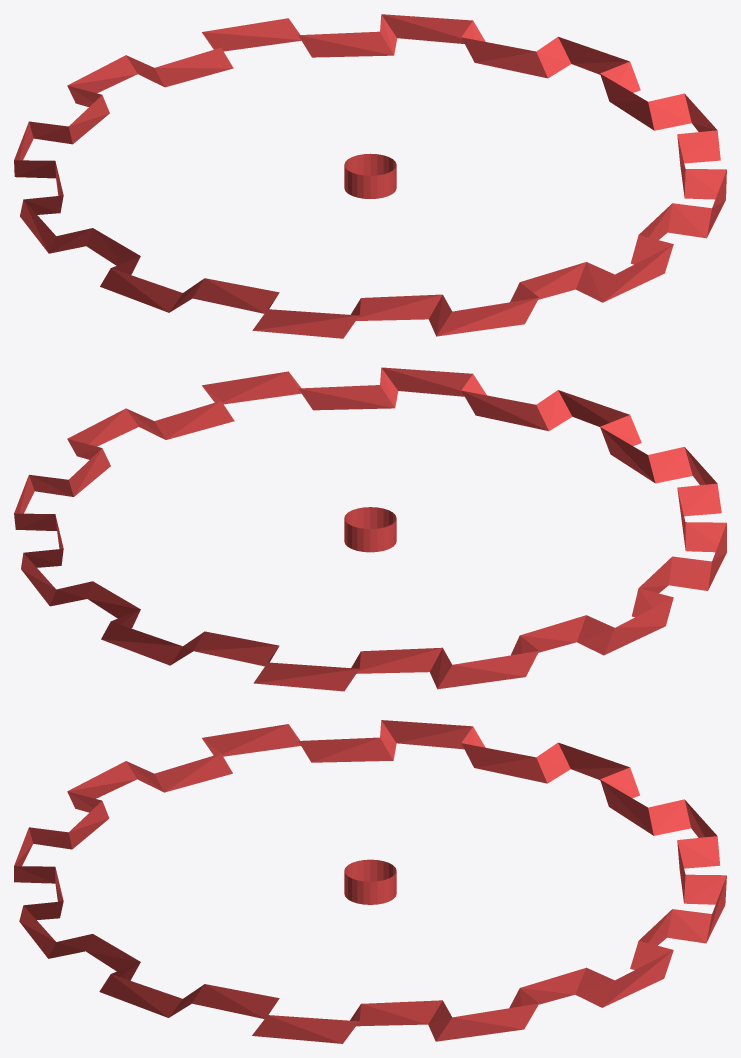
The model's file is SAWSymbol.dae.
The picture shows the model from 3 angles, top to bottom: view 1: azimuth 30°, elevation 25°; view 2: azimuth 150°, elevation 25°; view 3: azimuth 270°, elevation 25°; orthographic projection.
Parts seen in each view (by area): view 1: SketchUp (×2); view 2: SketchUp (×2); view 3: SketchUp (×2).
Part boxes in pixels (bbox=[...]): SketchUp (×2): bbox=[14, 14, 726, 338]; SketchUp (×2): bbox=[14, 367, 726, 691]; SketchUp (×2): bbox=[14, 720, 726, 1043].
Size of the model in its own units: 157 by 157 by 5.64.
